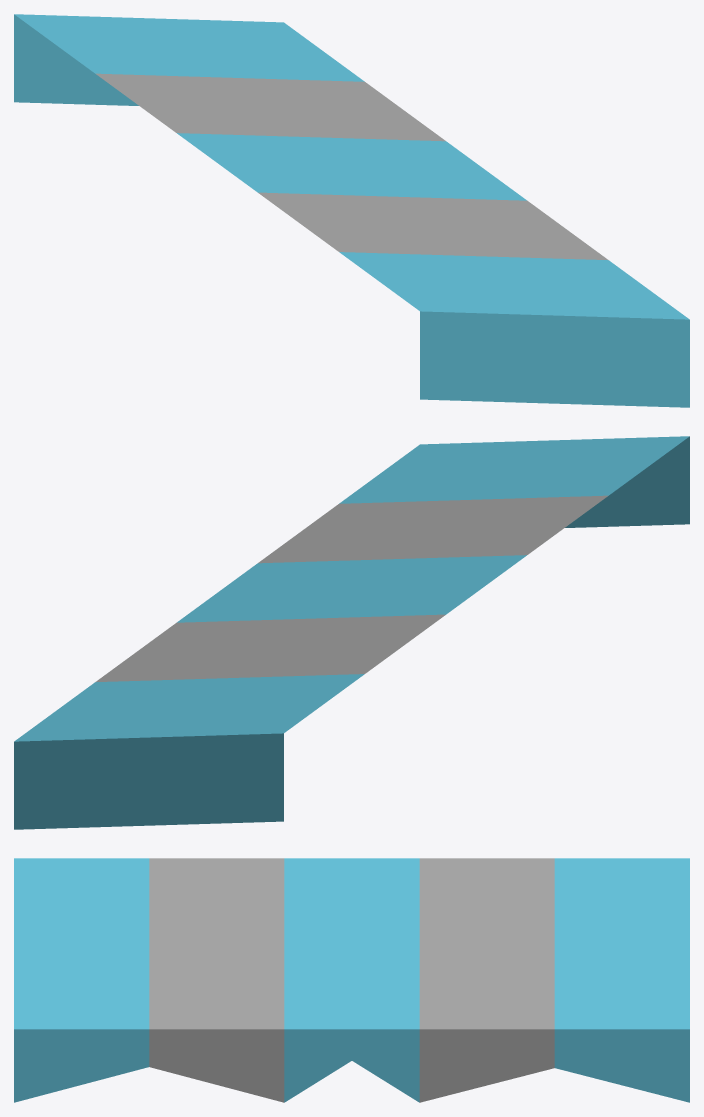
The model's file is Awning.2.fbx.
3 views of the same model, one above another, from view 1: azimuth 30°, elevation 25°; view 2: azimuth 150°, elevation 25°; view 3: azimuth 270°, elevation 25° (orthographic). The views are drawn at different scales.
Parts seen in each view (by area): view 1: Plane; view 2: Plane; view 3: Plane.
Part boxes in pixels (x1,y1,x2,y2): Plane: (14,14,689,407); Plane: (14,436,689,829); Plane: (14,858,689,1102).
Size of the model in its own units: 0.7675 by 0.4407 by 2.
